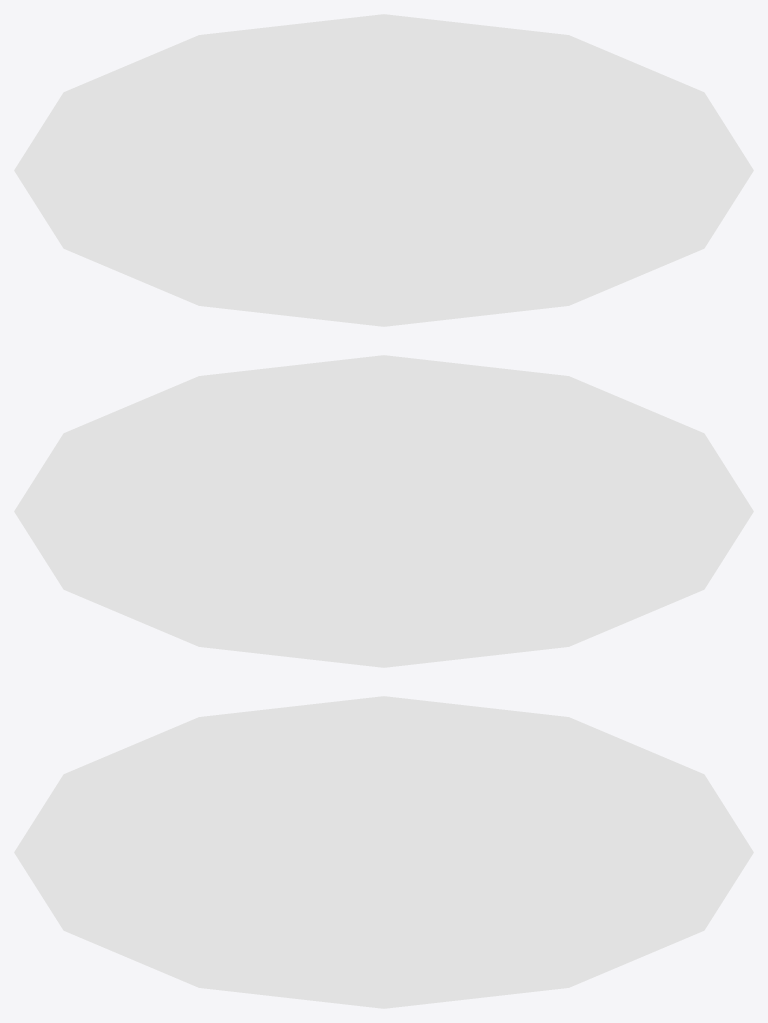
The model's file is Bottom.gltf.
3 renders of one model, top to bottom at view 1: azimuth 30°, elevation 25°; view 2: azimuth 150°, elevation 25°; view 3: azimuth 270°, elevation 25°, orthographic.
Parts seen in each view (by area): view 1: BottomCircle; view 2: BottomCircle; view 3: BottomCircle.
Boxes of the visible parts, x1,y1,x2,y2 form: BottomCircle: (14, 14, 753, 326); BottomCircle: (14, 355, 753, 667); BottomCircle: (14, 696, 753, 1008).
Bounding box in the file's own units: 1 × 0 × 1.
Materials: 1 (1 with a texture image).
